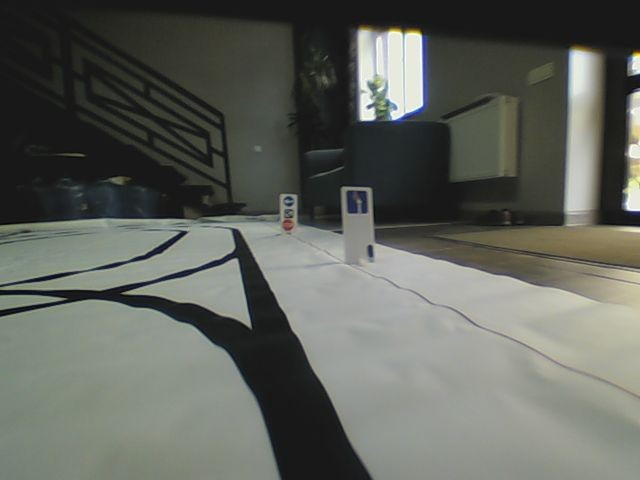priority_movement: (345, 190, 369, 215)
